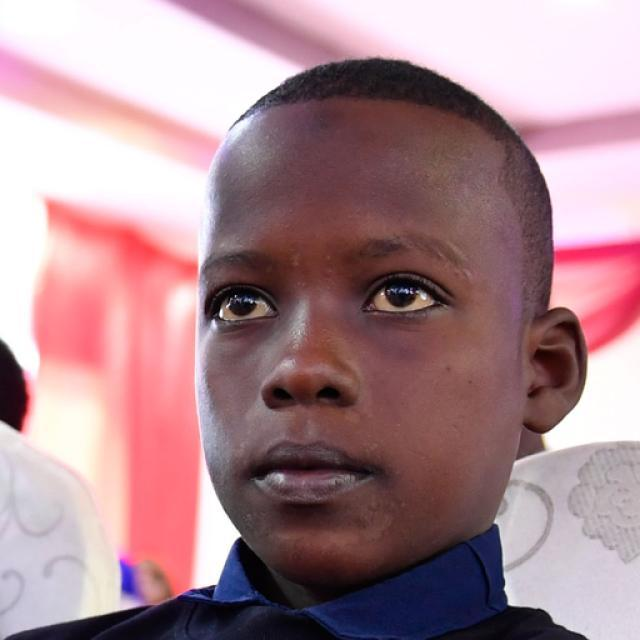neutral: (195, 112, 525, 582)
